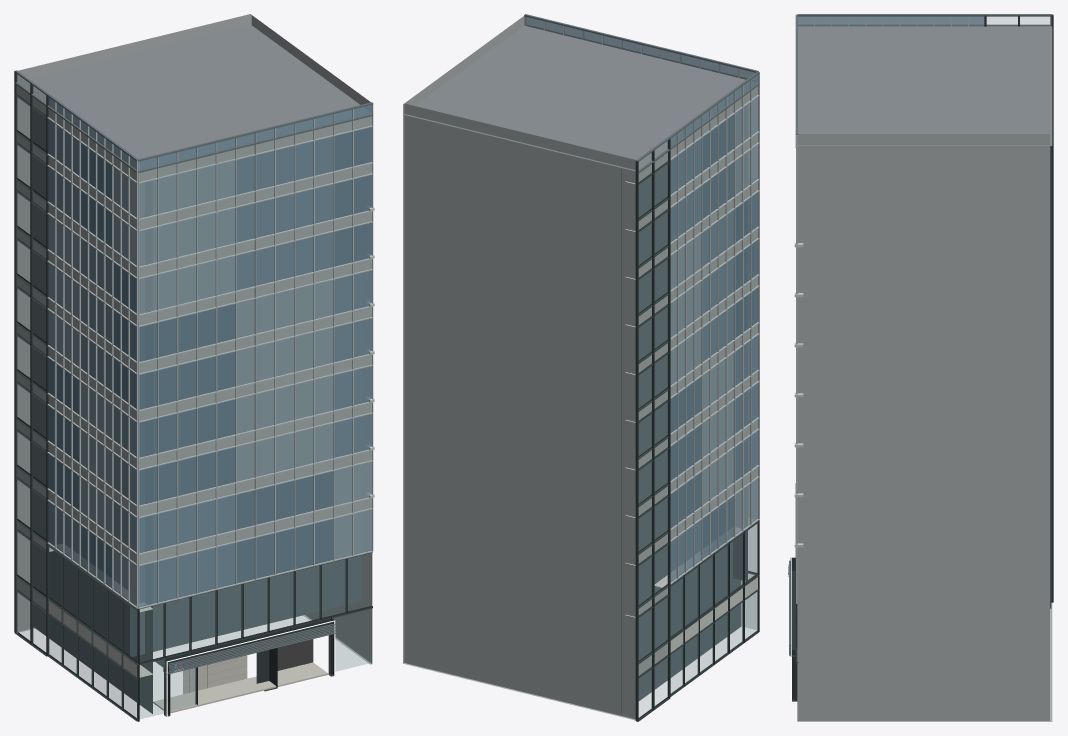
Rendered from d11-new-kca030.glb.
3 renders of one model, left to right at view 1: azimuth 30°, elevation 25°; view 2: azimuth 150°, elevation 25°; view 3: azimuth 270°, elevation 25°, orthographic. The views are drawn at different scales.
Visible parts, largest first — view 1: 02_west_strip_spandrels, I04_NEW_EPOCH_NORTH_NEUTRAL_WALL, 04_west_glass_2, 04_west_glass_0, 04_west_glass_1, 07_lower_clear_glazing, 01_west_clear_vertical_strip; view 2: I04_NEW_EPOCH_NORTH_NEUTRAL_WALL, 02_west_strip_spandrels, 04_west_glass_0, 01_west_clear_vertical_strip, 04_west_glass_1, 04_west_glass_2, 07_lower_clear_glazing; view 3: I04_NEW_EPOCH_NORTH_NEUTRAL_WALL, 02_west_strip_spandrels, 04_west_glass_0, 01_west_clear_vertical_strip.
Boxes of the visible parts, box(x1,y1,x2,y2) form: 02_west_strip_spandrels: box(14, 70, 374, 721); I04_NEW_EPOCH_NORTH_NEUTRAL_WALL: box(17, 14, 372, 664); 04_west_glass_2: box(48, 160, 371, 605); 04_west_glass_0: box(48, 97, 371, 606); 04_west_glass_1: box(48, 127, 371, 587); 07_lower_clear_glazing: box(49, 547, 371, 718); 01_west_clear_vertical_strip: box(17, 74, 45, 651); I04_NEW_EPOCH_NORTH_NEUTRAL_WALL: box(403, 16, 755, 720); 02_west_strip_spandrels: box(524, 14, 759, 721); 04_west_glass_0: box(526, 17, 757, 581); 01_west_clear_vertical_strip: box(639, 141, 667, 717); 04_west_glass_1: box(670, 115, 757, 558); 04_west_glass_2: box(670, 97, 757, 534); 07_lower_clear_glazing: box(671, 523, 757, 693); I04_NEW_EPOCH_NORTH_NEUTRAL_WALL: box(797, 16, 1052, 721); 02_west_strip_spandrels: box(788, 14, 1053, 701); 04_west_glass_0: box(798, 16, 984, 26); 01_west_clear_vertical_strip: box(987, 17, 1049, 24).
Bounding box in the file's own units: 18.42 × 41.76 × 17.05.
Materials: 9 (2 with a texture image).
